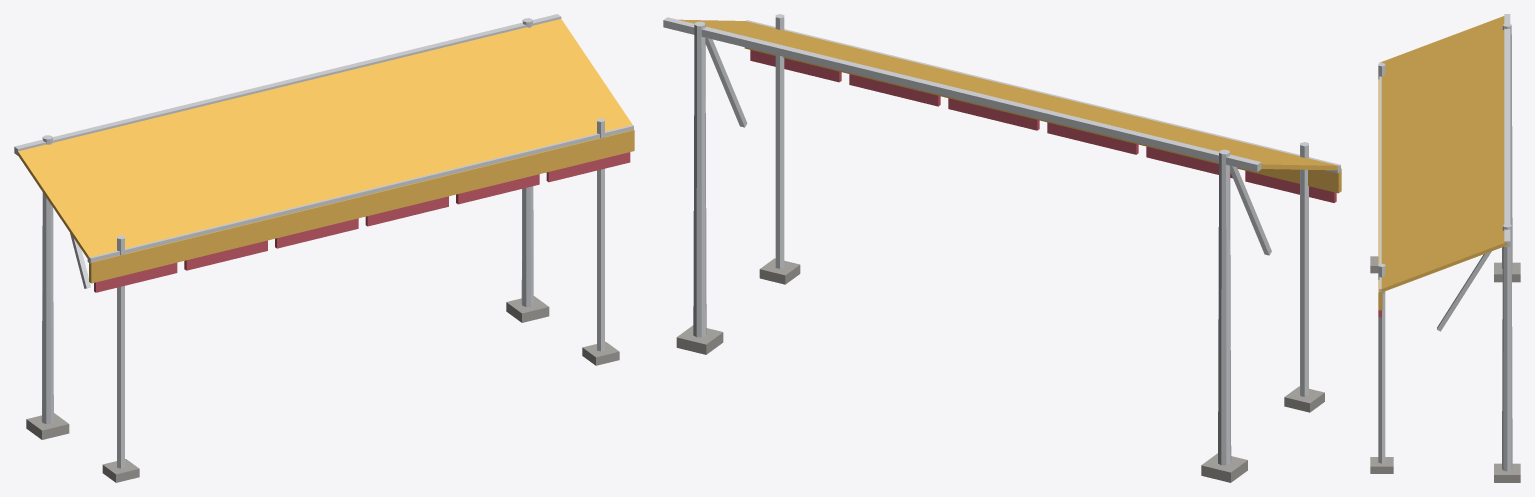
Rendered from awning.glb.
The picture shows the model from 3 angles, left to right: view 1: azimuth 30°, elevation 25°; view 2: azimuth 150°, elevation 25°; view 3: azimuth 270°, elevation 25°; orthographic projection. The views are drawn at different scales.
Parts seen in each view (by area): view 1: awning-run-on-poles-saffron, awning-run-on-poles-steel, awning-run-on-poles-crimson, awning-run-on-poles-stone; view 2: awning-run-on-poles-steel, awning-run-on-poles-saffron, awning-run-on-poles-crimson, awning-run-on-poles-stone; view 3: awning-run-on-poles-saffron, awning-run-on-poles-steel, awning-run-on-poles-stone.
Boxes of the visible parts, x1,y1,x2,y2 form: awning-run-on-poles-saffron: (18, 19, 634, 283); awning-run-on-poles-steel: (14, 14, 633, 468); awning-run-on-poles-crimson: (94, 152, 630, 292); awning-run-on-poles-stone: (26, 296, 619, 482); awning-run-on-poles-steel: (663, 14, 1340, 465); awning-run-on-poles-saffron: (678, 19, 1341, 193); awning-run-on-poles-crimson: (750, 50, 1336, 202); awning-run-on-poles-stone: (676, 258, 1324, 482); awning-run-on-poles-saffron: (1378, 16, 1507, 310); awning-run-on-poles-steel: (1378, 14, 1512, 471); awning-run-on-poles-stone: (1370, 256, 1520, 482).
Size of the model in its own units: 6 by 3.1 by 1.68.
4 materials, 1 textured.
